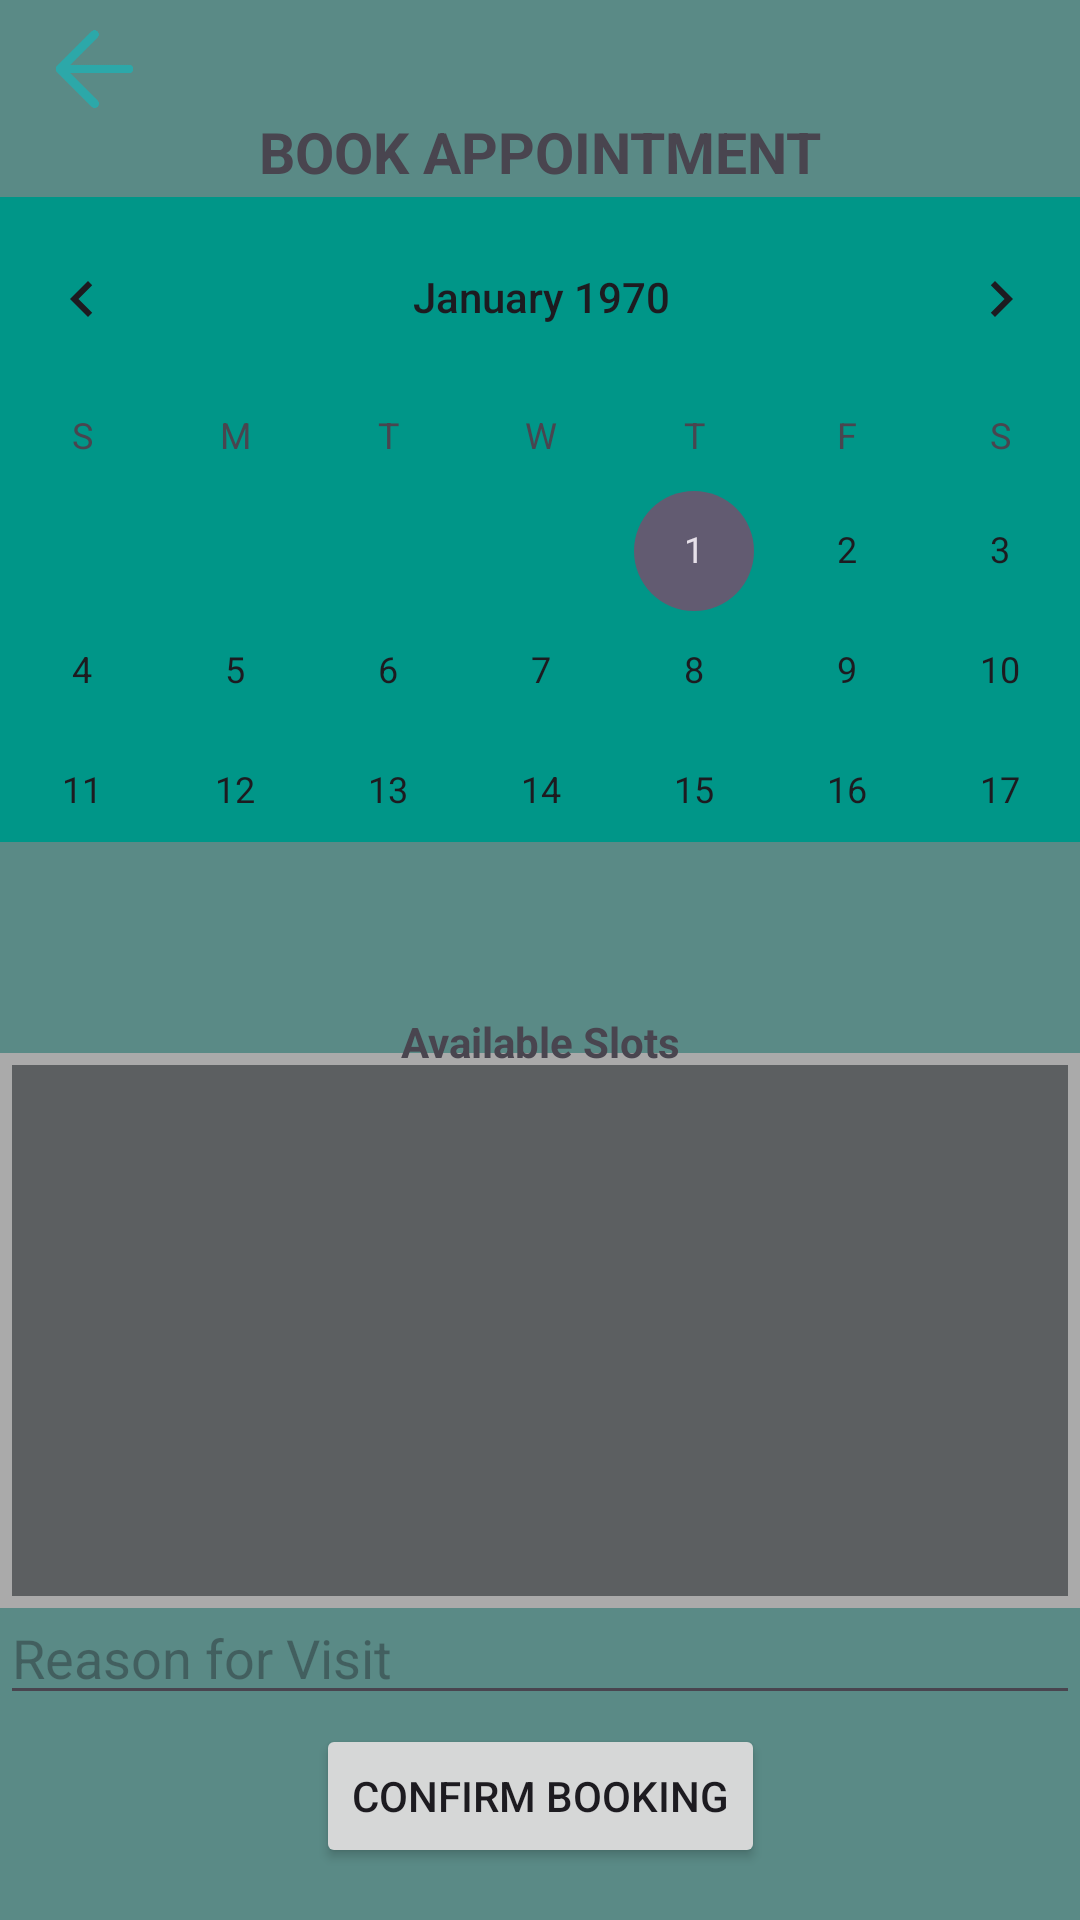

Named icons in this screenshot (1080x1920) and their bounding boxes, (x1, y1, x2, y2):
arrow left: (56, 30, 133, 108)
